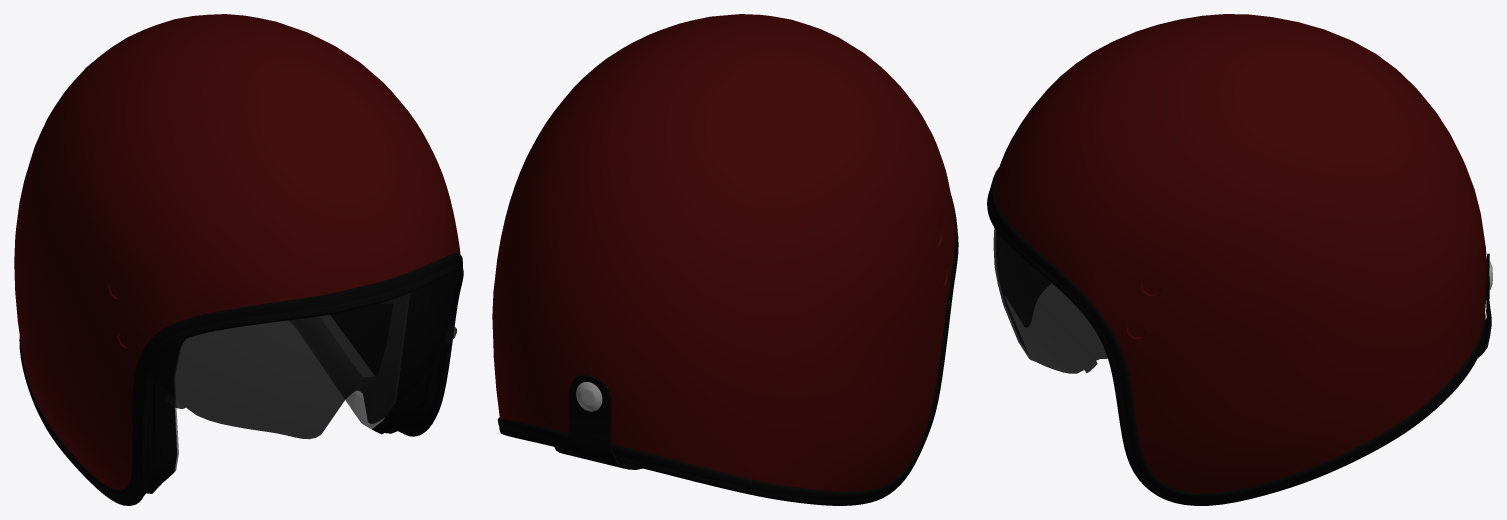
The model's file is Helmet1.fbx.
3 renders of one model, left to right at view 1: azimuth 30°, elevation 25°; view 2: azimuth 150°, elevation 25°; view 3: azimuth 270°, elevation 25°, orthographic. The views are drawn at different scales.
Visible parts, largest first — view 1: helmet3:Line011; view 2: helmet3:Line011; view 3: helmet3:Line011.
Part boxes in pixels (<box>): helmet3:Line011: <box>14,14,463,505</box>; helmet3:Line011: <box>492,14,958,505</box>; helmet3:Line011: <box>987,14,1492,505</box>.
Bounding box in the file's own units: 21.06 × 23.74 × 26.81.
